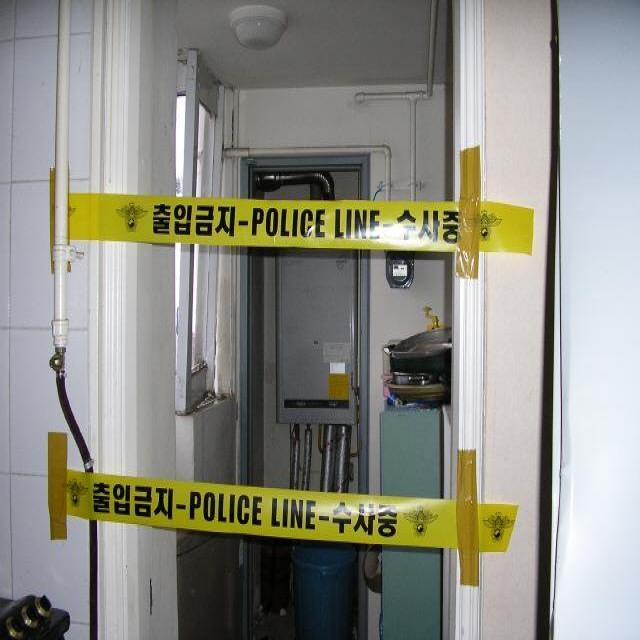Boiler: (236, 204, 388, 458)
